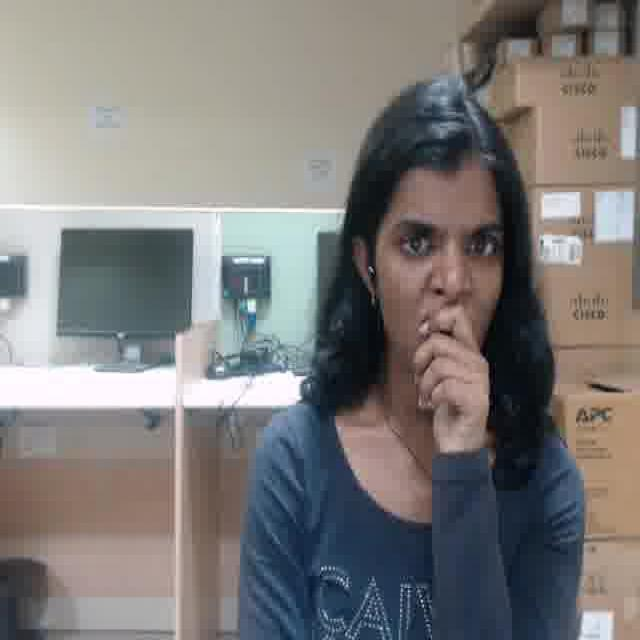Frustration: (376, 160, 501, 387)
